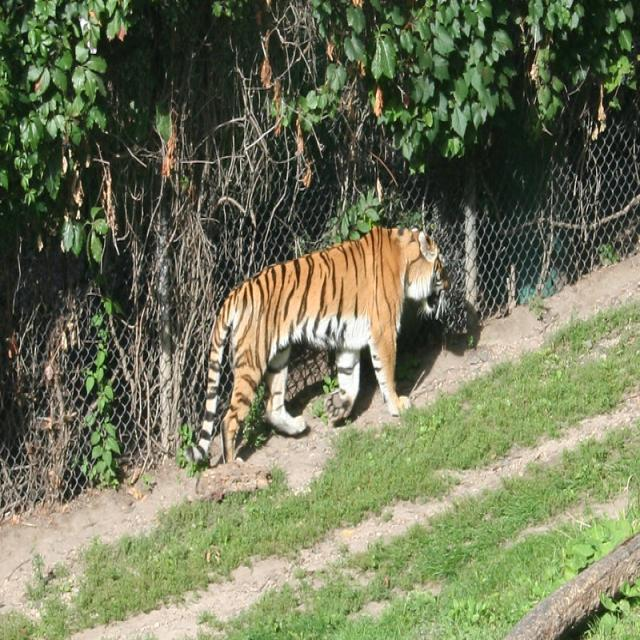Tiger: (177, 218, 455, 476)
